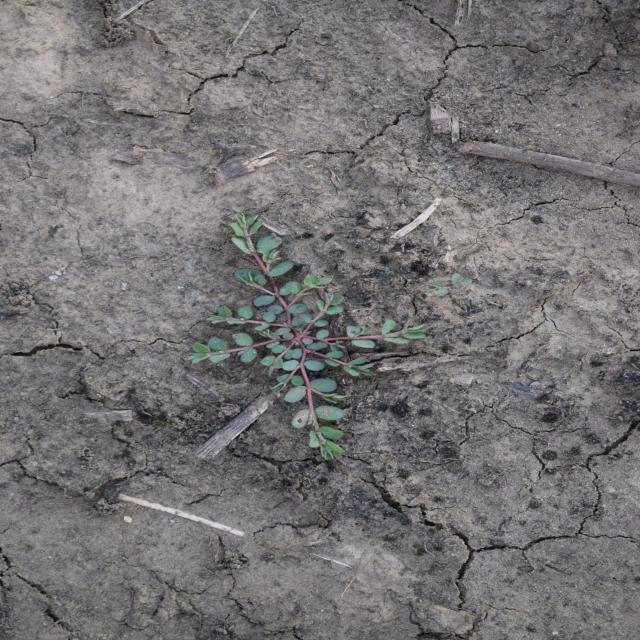SpottedSpurge: (183, 210, 431, 462)
